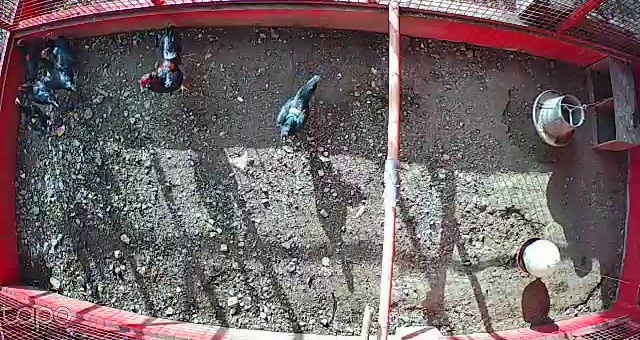Chicken: (272, 73, 328, 157), (30, 35, 90, 73), (11, 94, 53, 137), (13, 81, 66, 113), (25, 66, 80, 94), (15, 37, 41, 85)
Rooster: (139, 22, 205, 99)
Saddle_Color_Red: (25, 54, 30, 61)
Saddle_Color_Yellow: (30, 117, 37, 124)
